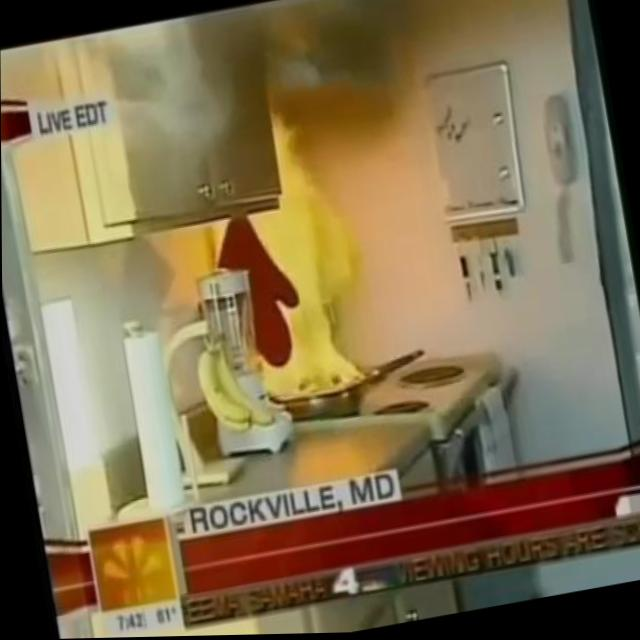fire: (195, 100, 370, 416)
